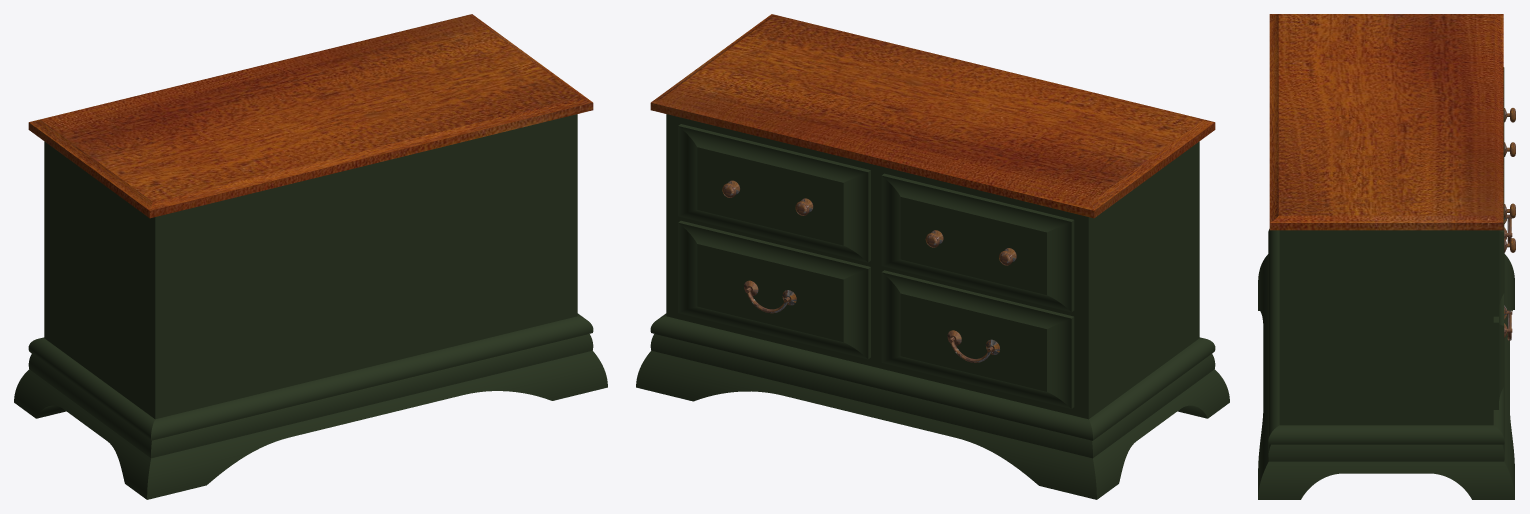
3 views of the same model, side by side, from view 1: azimuth 30°, elevation 25°; view 2: azimuth 150°, elevation 25°; view 3: azimuth 270°, elevation 25° (orthographic). The views are drawn at different scales.
Parts seen in each view (by area): view 1: mesh11_mesh11-geometry, mesh1_mesh1-geometry; view 2: mesh11_mesh11-geometry, mesh1_mesh1-geometry, mesh5_mesh5-geometry, mesh9_mesh9-geometry, mesh3_mesh3-geometry, mesh7_mesh7-geometry; view 3: mesh11_mesh11-geometry, mesh1_mesh1-geometry, mesh7_mesh7-geometry, mesh3_mesh3-geometry.
Part boxes in pixels (<box>): mesh11_mesh11-geometry: <box>14,114,607,499</box>; mesh1_mesh1-geometry: <box>28,14,593,218</box>; mesh11_mesh11-geometry: <box>636,114,1229,499</box>; mesh1_mesh1-geometry: <box>650,14,1215,218</box>; mesh5_mesh5-geometry: <box>881,173,1074,312</box>; mesh9_mesh9-geometry: <box>881,270,1074,408</box>; mesh3_mesh3-geometry: <box>678,124,870,262</box>; mesh7_mesh7-geometry: <box>678,220,870,359</box>; mesh11_mesh11-geometry: <box>1258,229,1514,499</box>; mesh1_mesh1-geometry: <box>1269,14,1503,230</box>; mesh7_mesh7-geometry: <box>1493,293,1504,409</box>; mesh3_mesh3-geometry: <box>1493,163,1504,316</box>.
Bounding box in the file's own units: 0.7895 × 0.4688 × 0.3961.
